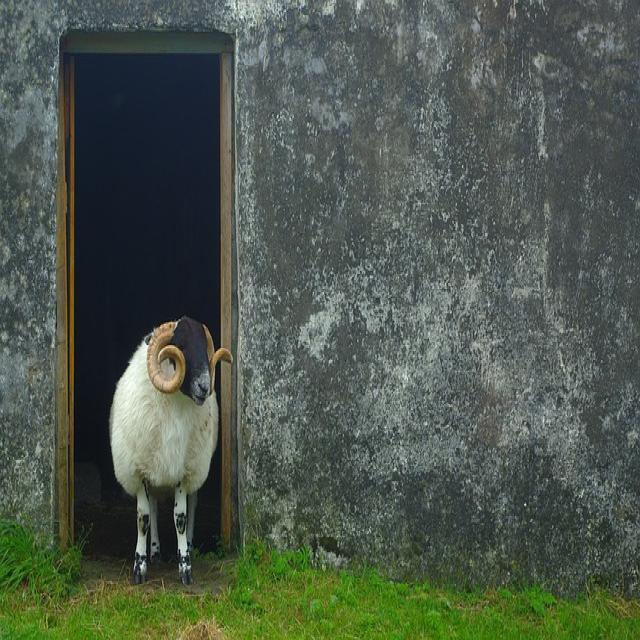goat: (108, 318, 221, 586)
